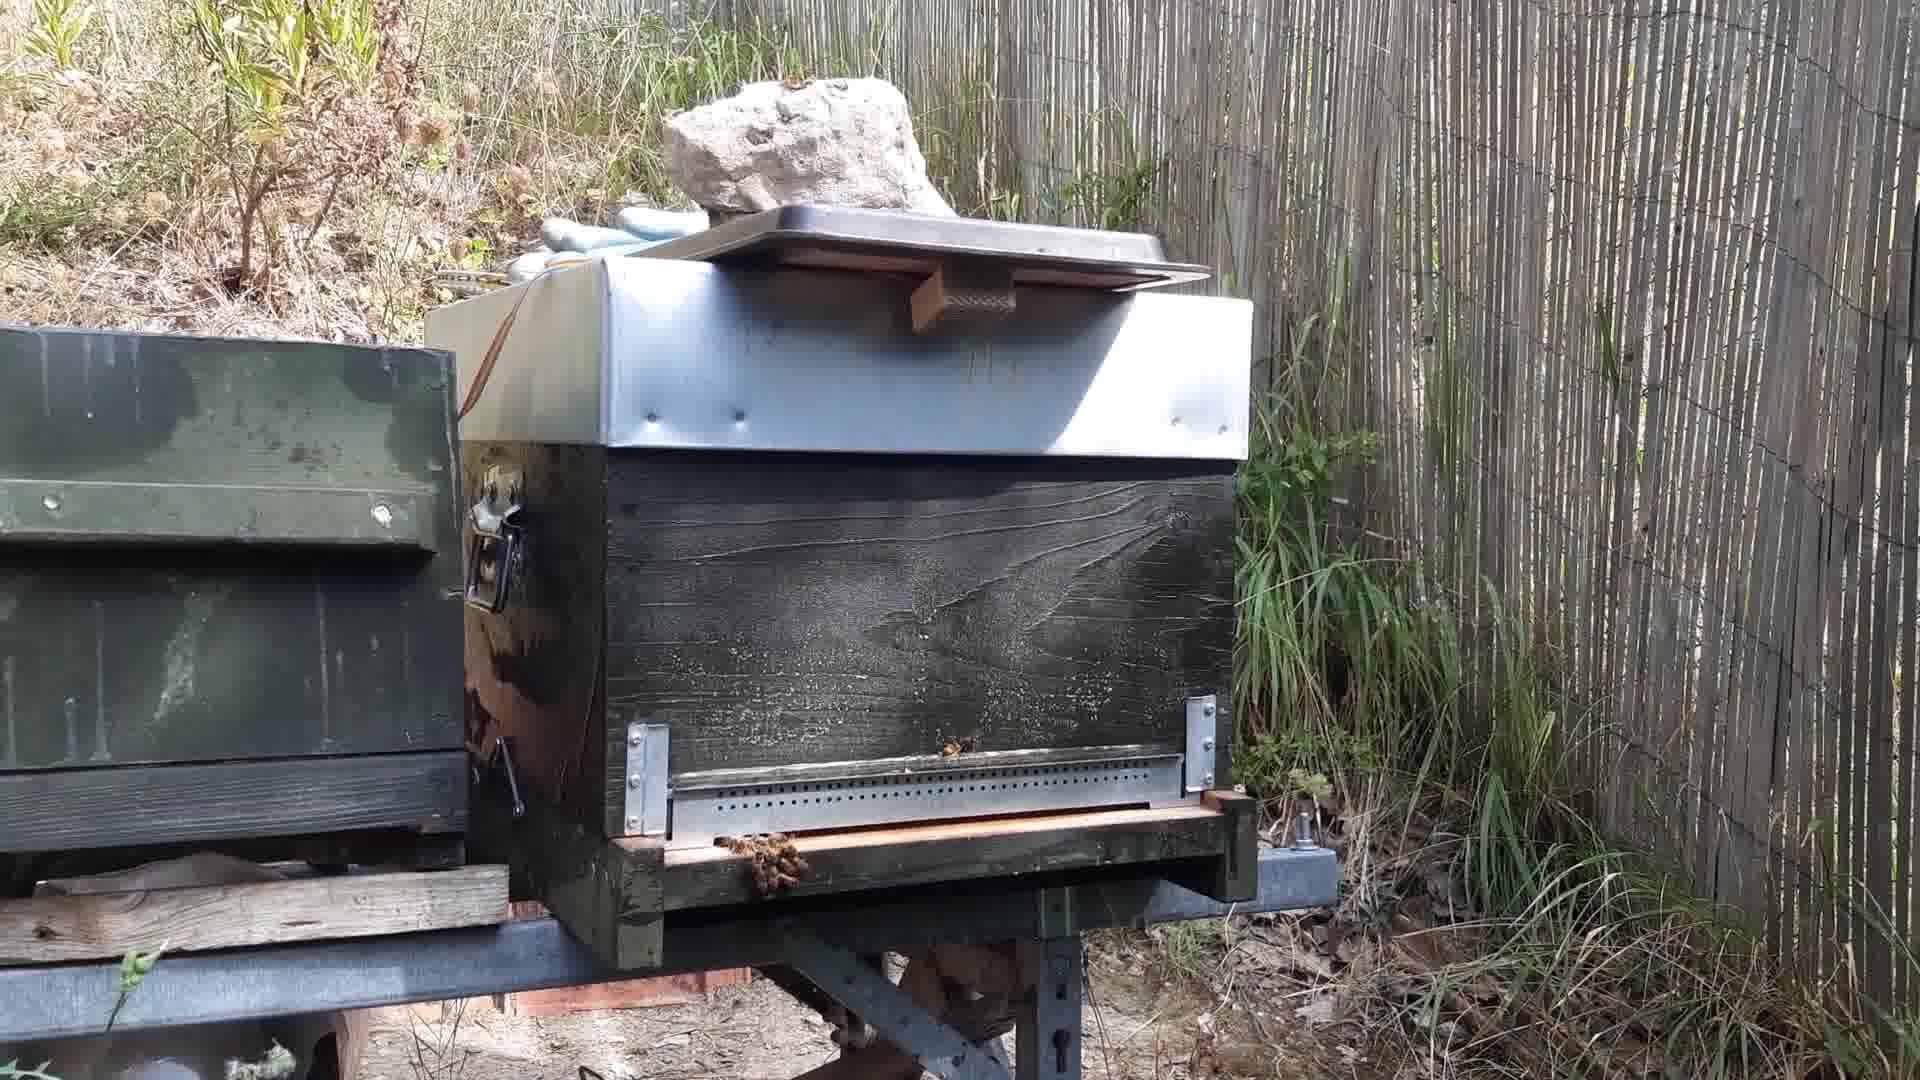bee: (731, 829, 814, 894)
hornet: (939, 735, 981, 761)
